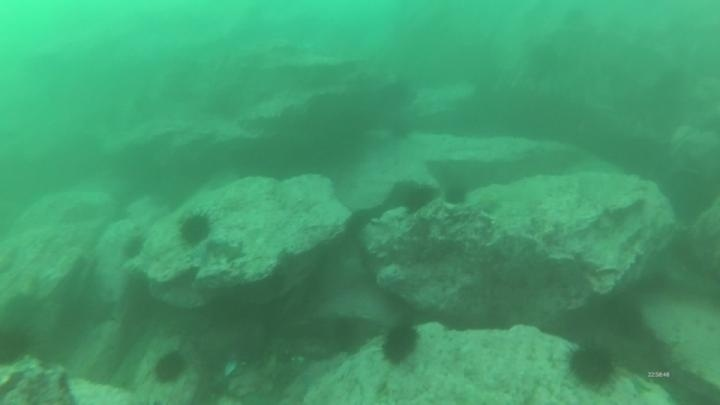echinus: (565, 340, 620, 390), (378, 320, 422, 367), (175, 209, 215, 249), (327, 315, 366, 356), (150, 348, 189, 387), (0, 323, 34, 367), (399, 181, 438, 215), (119, 232, 148, 263), (441, 181, 471, 209)
starfish: (464, 189, 505, 217)
